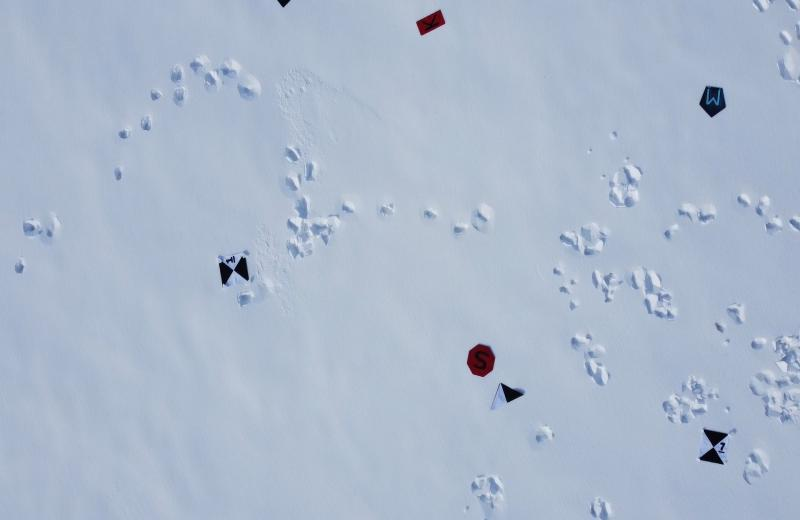Octagon: (465, 342, 496, 378)
Pentagon: (697, 84, 728, 120)
Rectangle: (414, 7, 447, 37)
Square: (276, 0, 292, 11)
